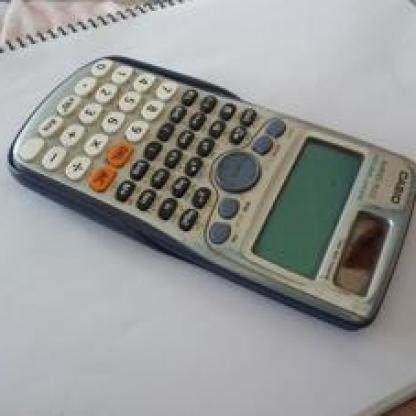calculator: (18, 50, 405, 350)
